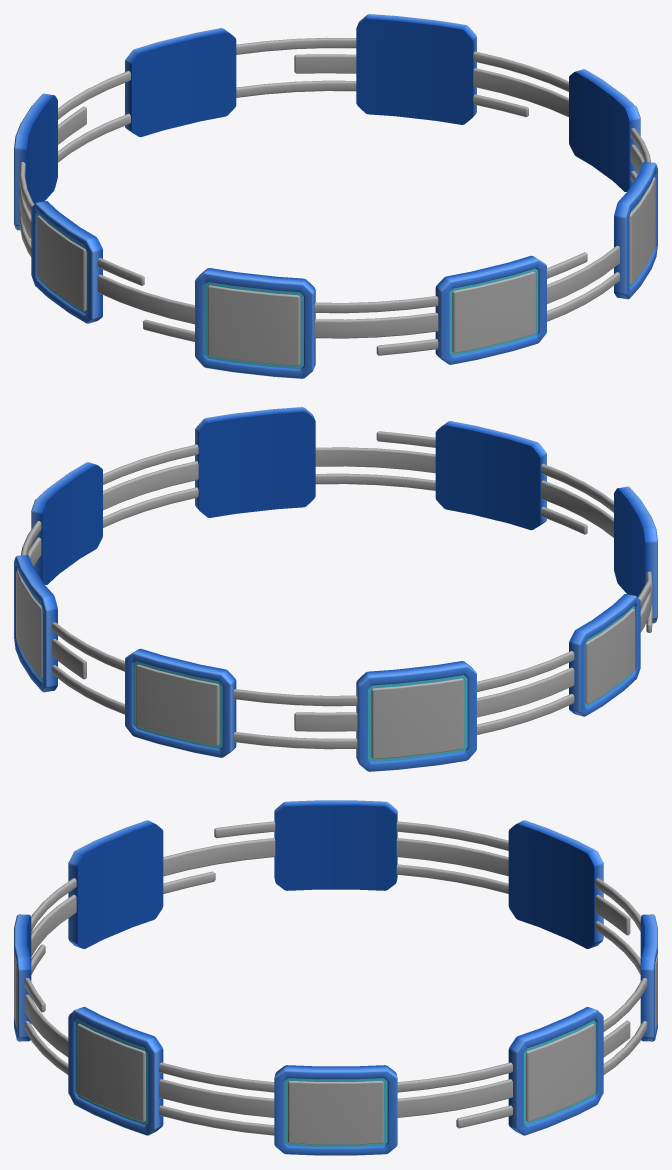
Rendered from halo_001.fbx.
The picture shows the model from 3 angles, top to bottom: view 1: azimuth 30°, elevation 25°; view 2: azimuth 150°, elevation 25°; view 3: azimuth 270°, elevation 25°; orthographic projection.
Parts seen in each view (by area): view 1: halo_001; view 2: halo_001; view 3: halo_001.
Boxes of the visible parts, x1,y1,x2,y2 form: halo_001: (14,14,657,378); halo_001: (14,407,657,771); halo_001: (14,800,657,1155).
Bounding box in the file's own units: 7815 × 7815 × 1282.
